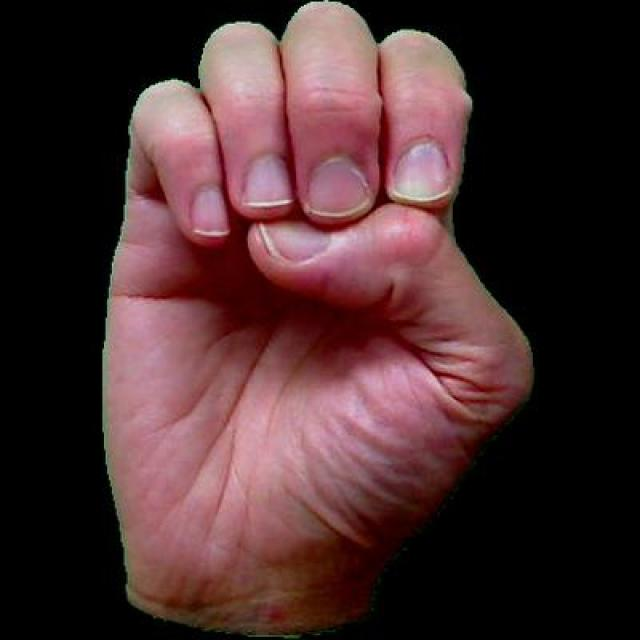e: (88, 0, 536, 637)
